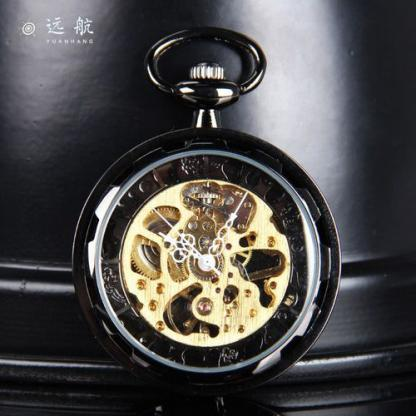FOD: (195, 190, 218, 200)
